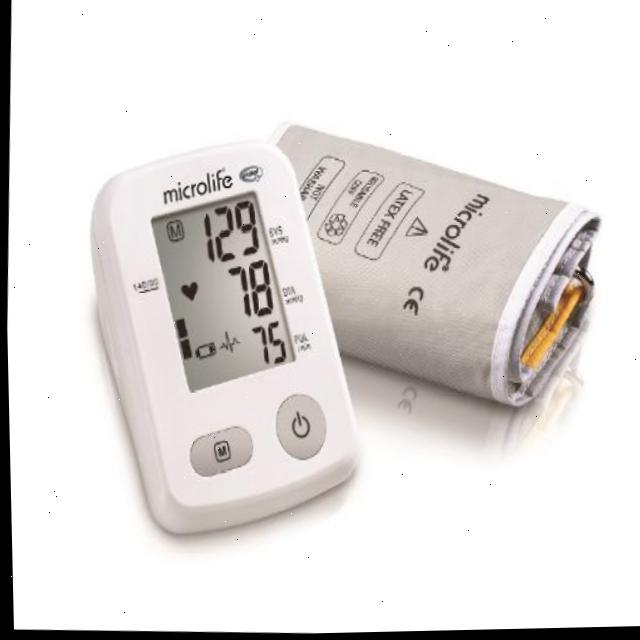dia: (220, 256, 279, 323)
pul: (245, 317, 289, 373)
ssd: (147, 192, 295, 394)
sys: (191, 194, 263, 268)
